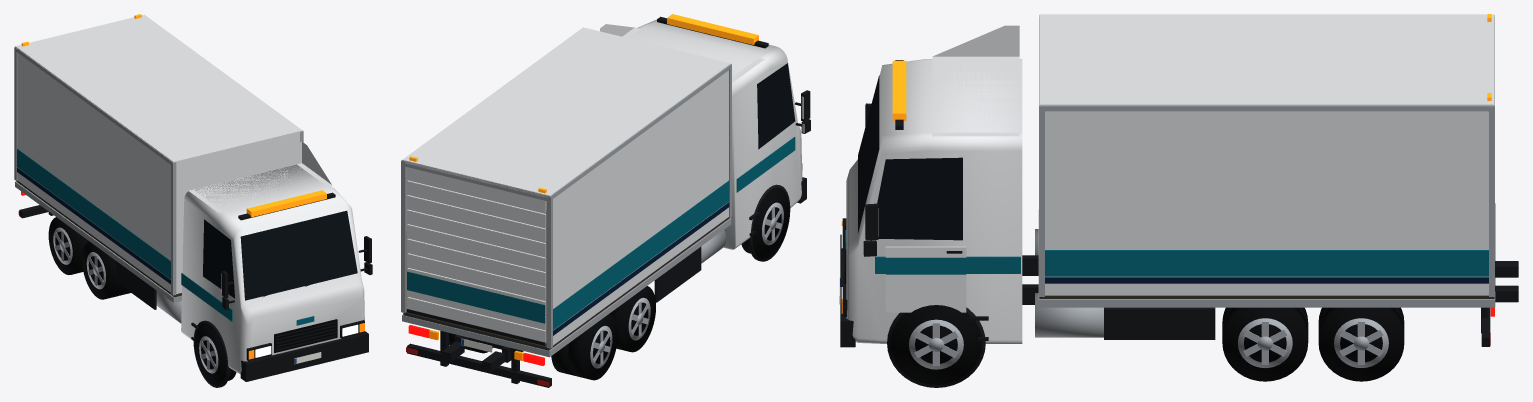
The model's file is deliver_heavy.glb.
3 renders of one model, left to right at view 1: azimuth 30°, elevation 25°; view 2: azimuth 150°, elevation 25°; view 3: azimuth 270°, elevation 25°, orthographic. The views are drawn at different scales.
Visible parts, largest first — view 1: Van_Paint, loft, Van_Glass, Van_Trim, Van_Teal, PC_Galv, Van_Tire.003, PC_Black, Van_Tire.005, Van_Tire.001, Van_BeaconMat, Van_Navy (+3 smaller); view 2: Van_Paint, Van_Paint.001, loft, PC_Galv, Van_Teal, Van_Trim, Van_Teal.001, Van_Glass, Van_Tire.005, Van_Tire.003, Van_Floor, Van_Tire.001 (+9 smaller); view 3: Van_Paint, loft, Van_Teal, PC_Galv, Van_Glass, Van_Trim, Van_Paint.002, Van_Tire.004, Van_Tire.002, Van_Tire, Van_Navy, PC_Galv.001 (+14 smaller).
Part boxes in pixels (x1,y1,x2,y2): Van_Paint: (15,14,331,293); loft: (181,164,364,374); Van_Glass: (203,210,357,300); Van_Trim: (19,192,372,381); Van_Teal: (17,148,314,325); PC_Galv: (14,47,303,302); Van_Tire.003: (82,241,130,299); PC_Black: (262,275,337,352); Van_Tire.005: (48,217,89,274); Van_Tire.001: (194,325,236,383); Van_BeaconMat: (21,14,326,217); Van_Navy: (17,167,170,284); Van_Paint: (402,24,764,345); Van_Paint.001: (407,167,546,344); loft: (628,19,802,249); PC_Galv: (401,64,731,357); Van_Teal: (553,137,795,330); Van_Trim: (407,16,810,387); Van_Teal.001: (407,271,545,323); Van_Glass: (757,63,795,149); Van_Tire.005: (551,314,617,380); Van_Tire.003: (609,286,655,352); Van_Floor: (403,210,729,350); Van_Tire.001: (741,190,789,256); Van_Paint: (932,14,1494,295); loft: (846,59,1022,343); Van_Teal: (845,230,1488,276); PC_Galv: (1038,15,1495,307); Van_Glass: (858,75,962,240); Van_Trim: (840,60,1518,347); Van_Paint.002: (885,246,966,312); Van_Tire.004: (1318,307,1404,381); Van_Tire.002: (1222,307,1308,381); Van_Tire: (893,305,979,382); Van_Navy: (1045,277,1488,283); PC_Galv.001: (1035,229,1103,337).
Bounding box in the file's own units: 2.84 × 3.7 × 7.91.
